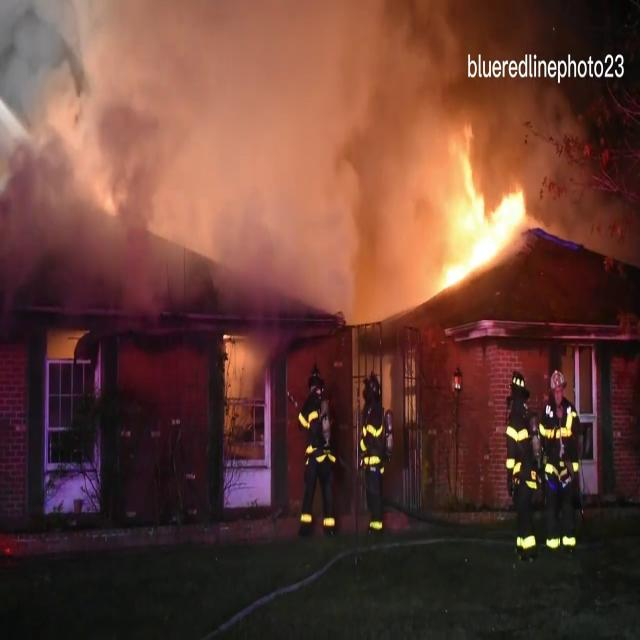Fire: (415, 126, 539, 301)
Smoke: (0, 0, 458, 281)
